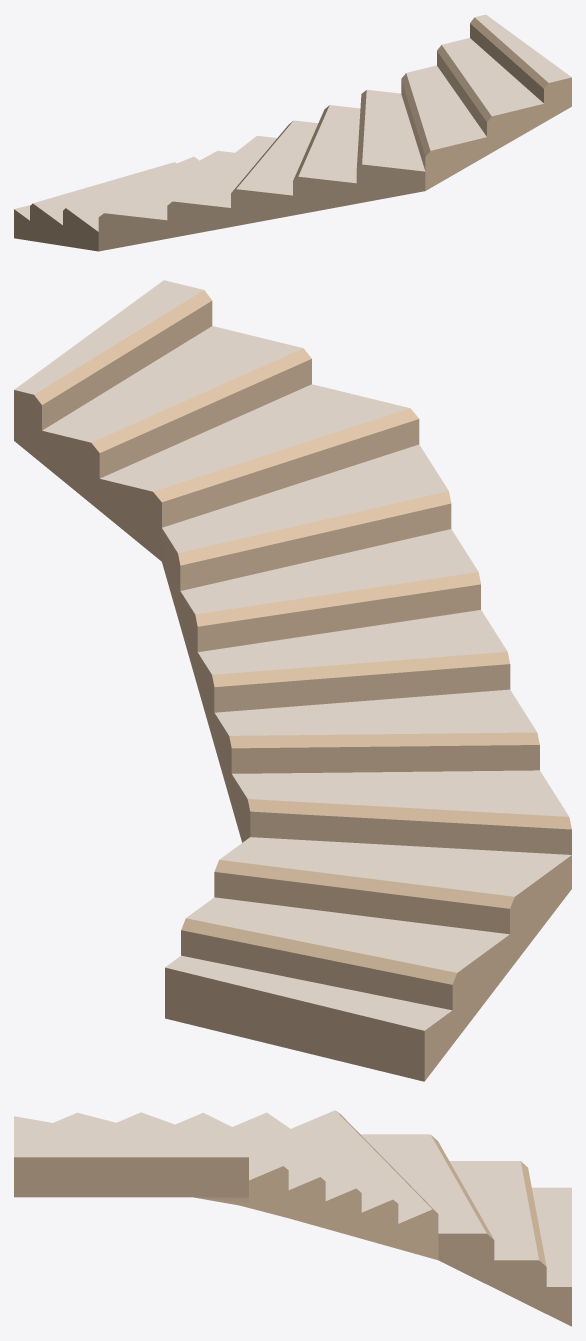
The model's file is Stairs_Steps_Curved.fbx.
3 renders of one model, top to bottom at view 1: azimuth 30°, elevation 25°; view 2: azimuth 150°, elevation 25°; view 3: azimuth 270°, elevation 25°, orthographic. The views are drawn at different scales.
Visible parts, largest first — view 1: Sandstone_Floor.Sandstone_Floor.Sandstone_Floor.Sandstone_Fl, Sandstone_Trim.Sandstone_Trim.Sandstone_Trim.Sandstone_Trim.; view 2: Sandstone_Trim.Sandstone_Trim.Sandstone_Trim.Sandstone_Trim., Sandstone_Floor.Sandstone_Floor.Sandstone_Floor.Sandstone_Fl; view 3: Sandstone_Floor.Sandstone_Floor.Sandstone_Floor.Sandstone_Fl, Sandstone_Trim.Sandstone_Trim.Sandstone_Trim.Sandstone_Trim..
Boxes of the visible parts, box(x1,y1,x2,y2) form: Sandstone_Floor.Sandstone_Floor.Sandstone_Floor.Sandstone_Fl: box(14, 14, 571, 231); Sandstone_Trim.Sandstone_Trim.Sandstone_Trim.Sandstone_Trim.: box(14, 17, 571, 251); Sandstone_Trim.Sandstone_Trim.Sandstone_Trim.Sandstone_Trim.: box(14, 290, 571, 1081); Sandstone_Floor.Sandstone_Floor.Sandstone_Floor.Sandstone_Fl: box(14, 280, 571, 1030); Sandstone_Floor.Sandstone_Floor.Sandstone_Floor.Sandstone_Fl: box(14, 1110, 571, 1286); Sandstone_Trim.Sandstone_Trim.Sandstone_Trim.Sandstone_Trim.: box(14, 1111, 571, 1326).
Bounding box in the file's own units: 1.9 × 1.15 × 1.9.
